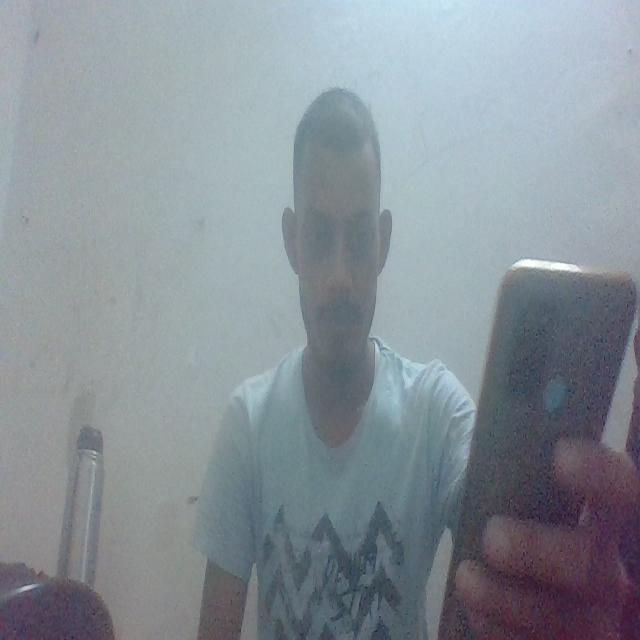Phone: (446, 254, 634, 640)
